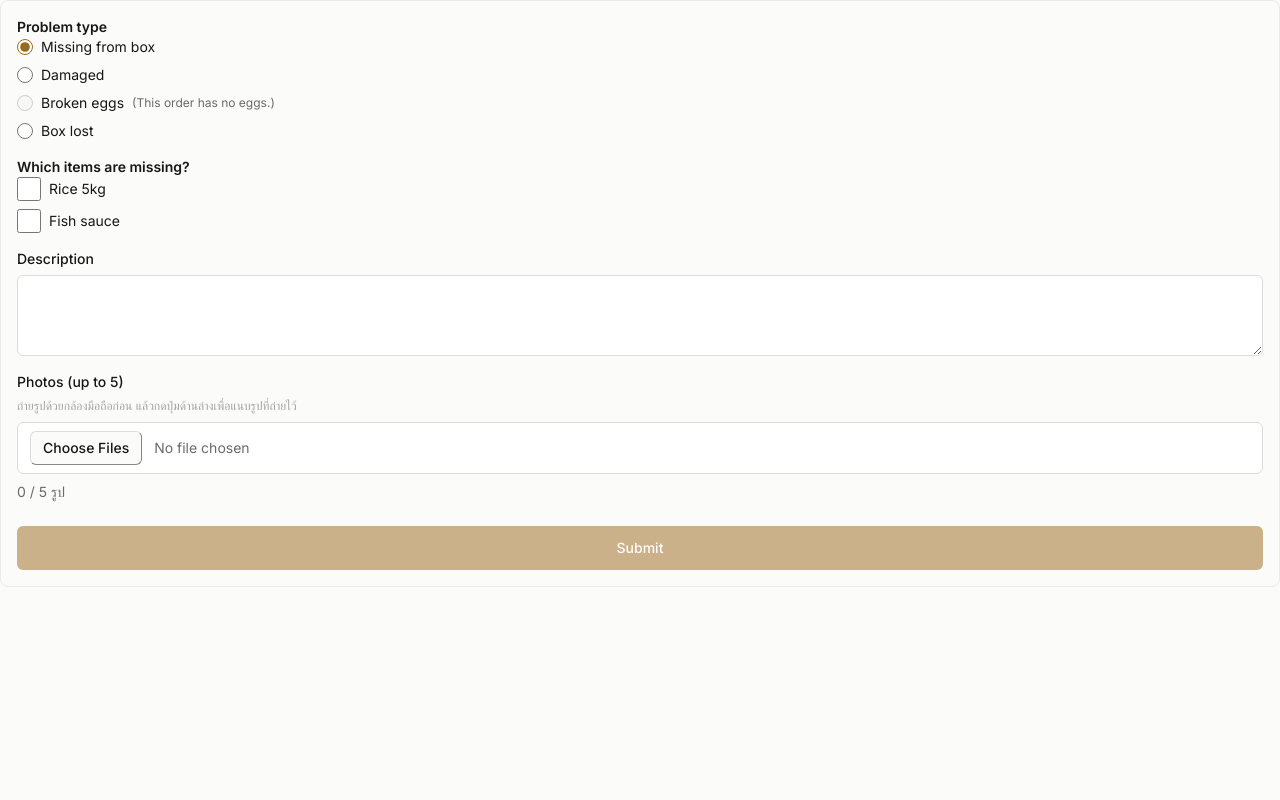
Scenario: damaged: submit is disabled until at least one item is checked
The width and height of the screenshot is (1280, 800).
Click the radio button labelled "Damaged" at (25, 75), box left=17, top=67, right=33, bottom=83
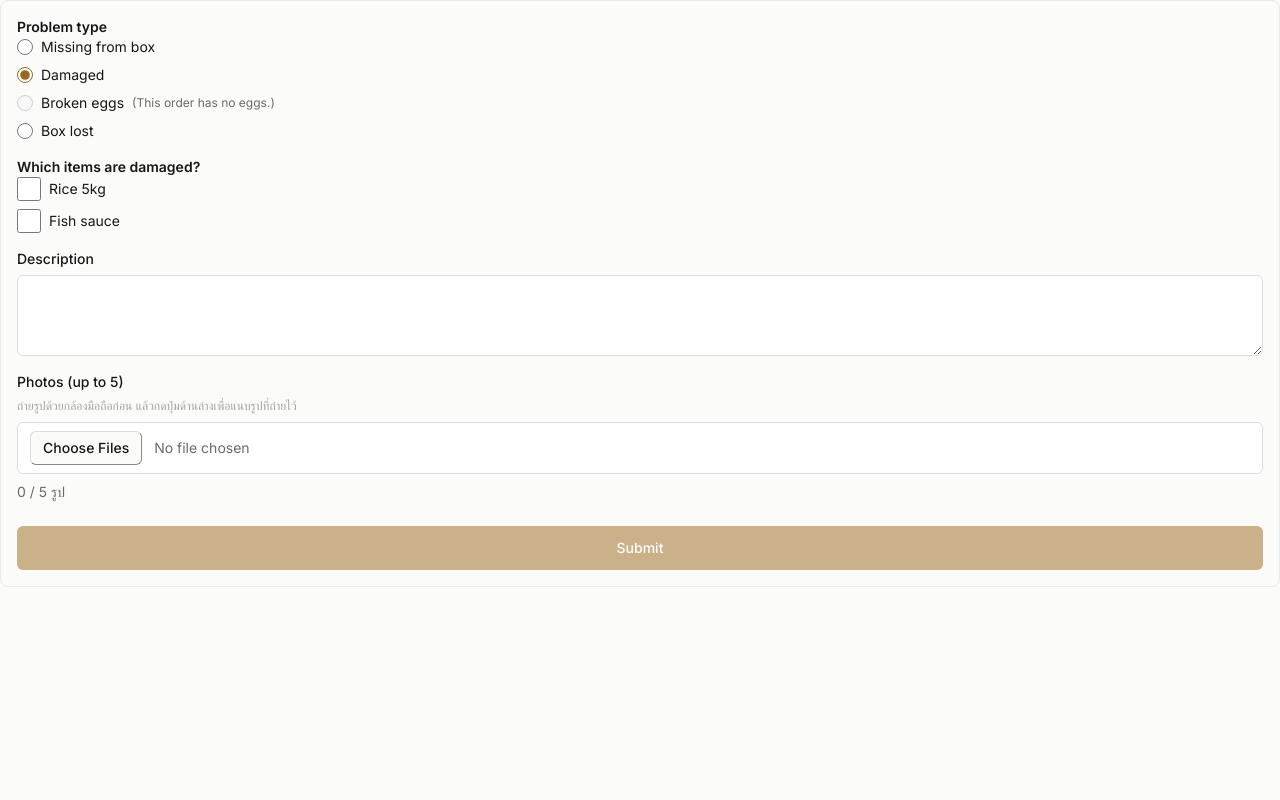
Check: the button "Submit" is disabled, box left=17, top=526, right=1263, bottom=570
Click the checkbox labelled "Rice 5kg" at (29, 189), box left=17, top=177, right=41, bottom=201
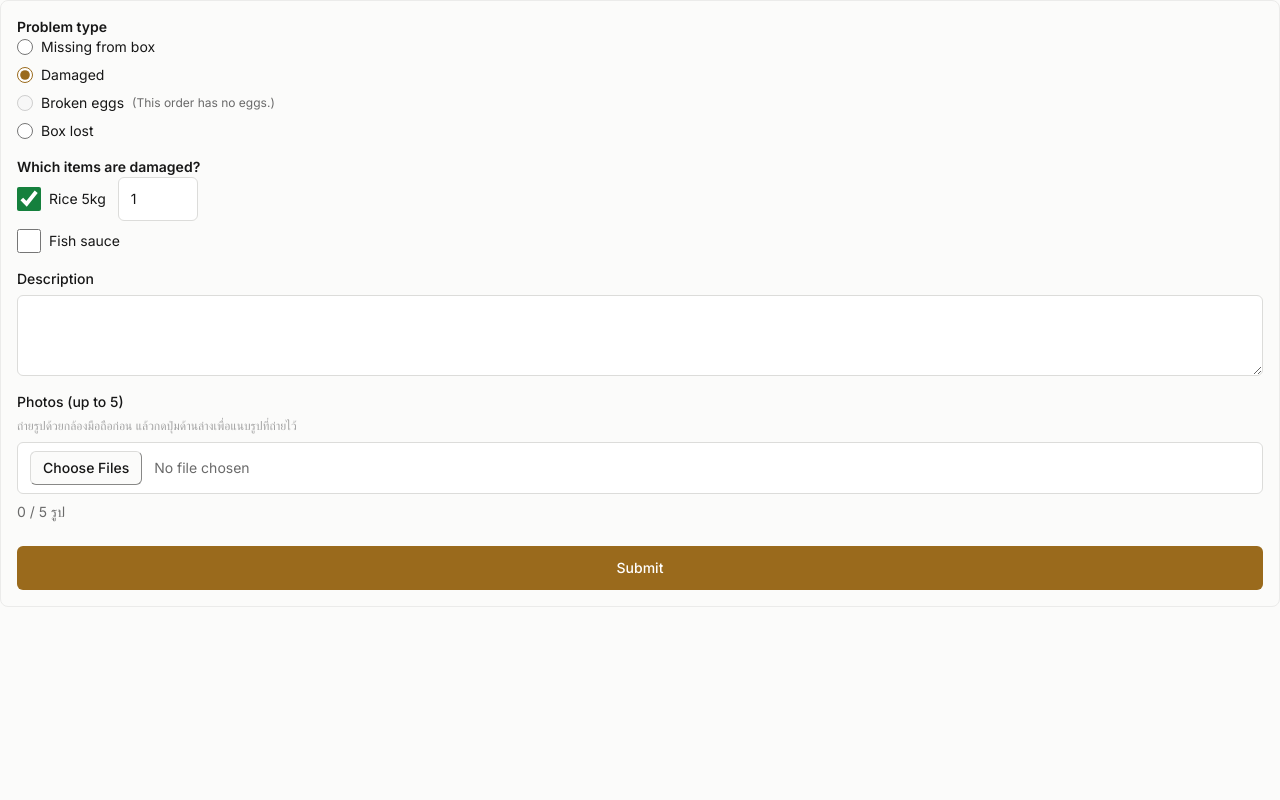
Check: the button "Submit" is enabled, box left=17, top=546, right=1263, bottom=590
